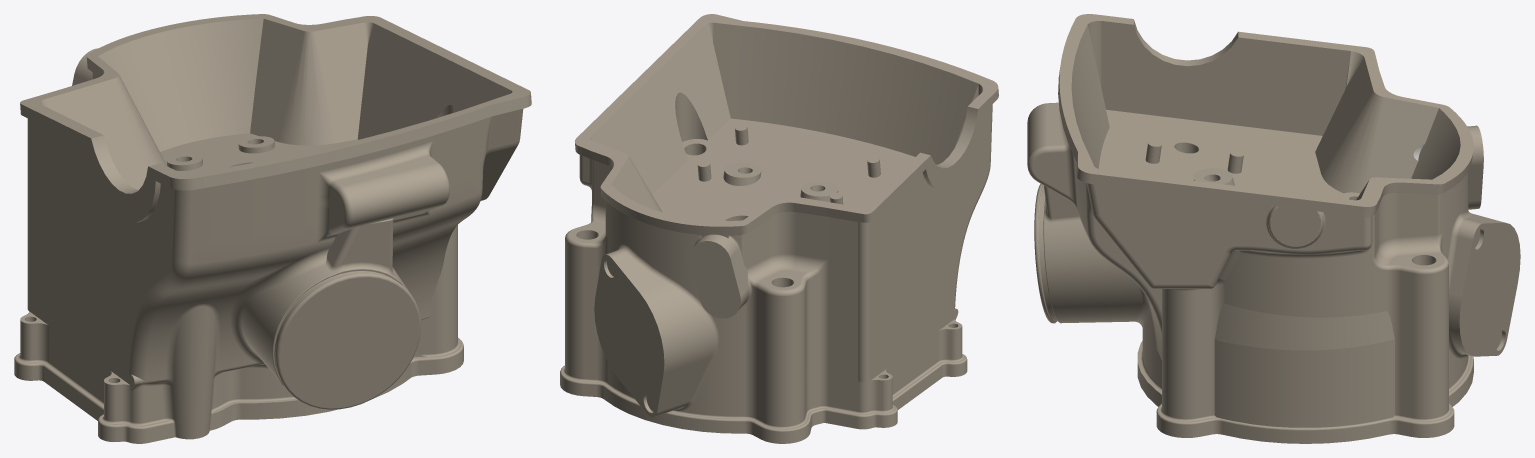
Rendered from Cylinder_Head_2.0.glb.
3 views of the same model, side by side, from view 1: azimuth 30°, elevation 25°; view 2: azimuth 150°, elevation 25°; view 3: azimuth 270°, elevation 25° (orthographic). The views are drawn at different scales.
Visible parts, largest first — view 1: Cylinder Head 2.0; view 2: Cylinder Head 2.0; view 3: Cylinder Head 2.0.
Boxes of the visible parts, x1,y1,x2,y2 form: Cylinder Head 2.0: [14, 14, 531, 443]; Cylinder Head 2.0: [560, 14, 998, 443]; Cylinder Head 2.0: [1027, 14, 1520, 443].
Bounding box in the file's own units: 0.1434 × 0.1104 × 0.1787.
